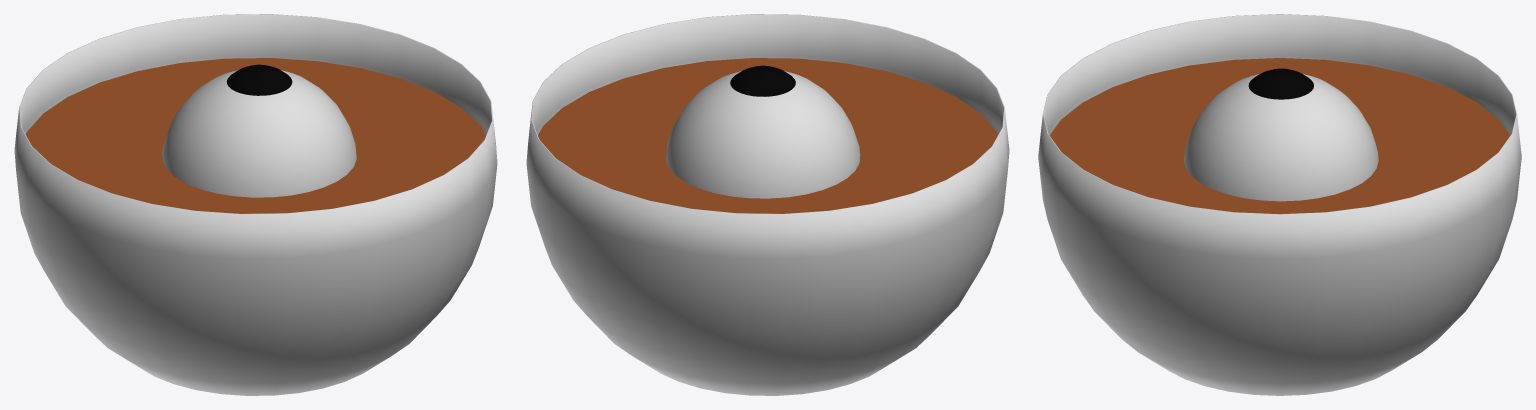
The model's file is EyeSoupBowl.fbx.
3 views of the same model, side by side, from view 1: azimuth 30°, elevation 25°; view 2: azimuth 150°, elevation 25°; view 3: azimuth 270°, elevation 25° (orthographic).
Parts seen in each view (by area): view 1: EyeSoupBowl; view 2: EyeSoupBowl; view 3: EyeSoupBowl.
Part boxes in pixels (bbox=[...]): EyeSoupBowl: bbox=[14, 14, 497, 395]; EyeSoupBowl: bbox=[526, 14, 1009, 395]; EyeSoupBowl: bbox=[1038, 14, 1521, 395].
Size of the model in its own units: 124 by 124 by 75.94.
